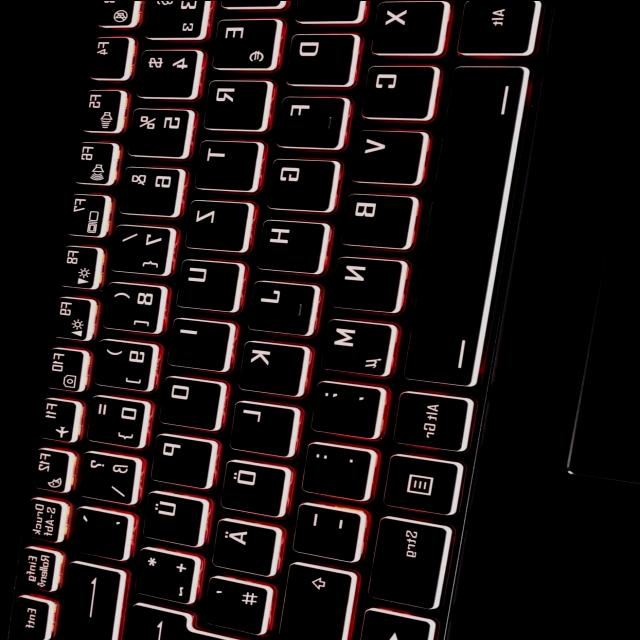0: (86, 393, 152, 447)
3: (141, 0, 209, 40)
4: (134, 46, 200, 98)
5: (124, 104, 192, 158)
6: (116, 162, 183, 216)
7: (107, 221, 174, 276)
8: (99, 278, 165, 332)
9: (90, 336, 156, 390)
accent: (68, 504, 129, 559)
ae: (208, 515, 280, 575)
altgr-right: (389, 389, 475, 451)
b: (336, 189, 415, 249)
c: (358, 61, 438, 121)
comma: (307, 376, 383, 438)
d: (282, 29, 356, 86)
del: (55, 557, 121, 640)
e: (209, 14, 282, 70)
enter: (119, 600, 261, 640)
f: (272, 92, 347, 149)
g: (263, 153, 337, 211)
h: (254, 215, 327, 273)
hash: (199, 572, 271, 635)
i: (164, 314, 233, 370)
j: (244, 277, 318, 334)
k: (234, 337, 308, 395)
l: (226, 398, 298, 456)
m: (318, 313, 396, 374)
minus: (288, 498, 364, 562)
n: (327, 252, 405, 312)
o: (156, 372, 224, 429)
oe: (217, 456, 289, 516)
p: (147, 431, 215, 488)
plus: (130, 544, 198, 604)
point: (297, 437, 373, 500)
r: (201, 76, 271, 131)
s: (291, 0, 363, 22)
shift-right: (274, 558, 355, 640)
space: (398, 54, 528, 390)
ss: (75, 448, 139, 504)
strg-left: (453, 0, 541, 56)
strg-right: (364, 511, 454, 611)
t: (191, 136, 261, 191)
u: (172, 255, 242, 311)
ue: (139, 487, 207, 545)
v: (347, 125, 426, 185)
y: (368, 0, 447, 55)
z: (182, 197, 252, 252)
